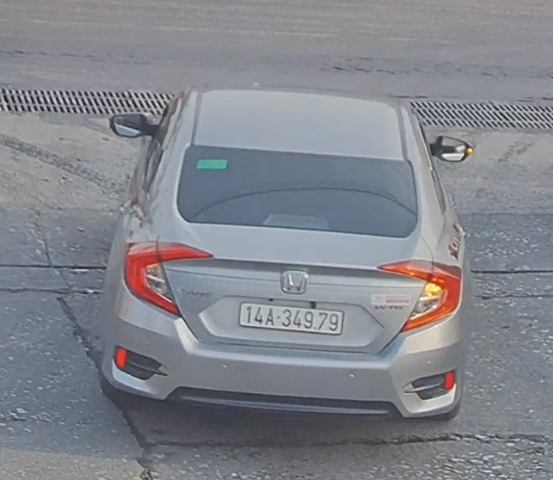vehicle plate: (238, 300, 345, 340)
